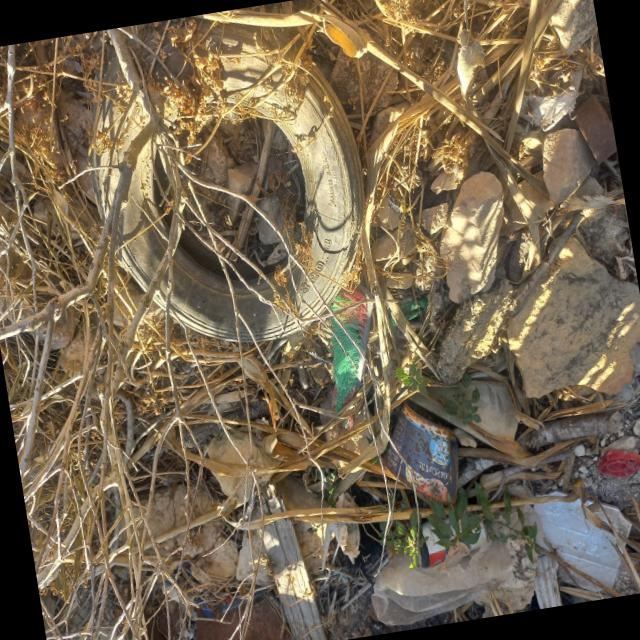Bottle: (217, 585, 271, 612)
Can: (381, 402, 459, 505), (413, 511, 484, 568)
Other litter: (85, 12, 363, 343), (533, 488, 634, 609), (148, 596, 290, 640)
Other plastic: (332, 287, 374, 429), (391, 297, 429, 330), (600, 449, 640, 477)
Plastic bag - wrapper: (371, 506, 543, 628)
